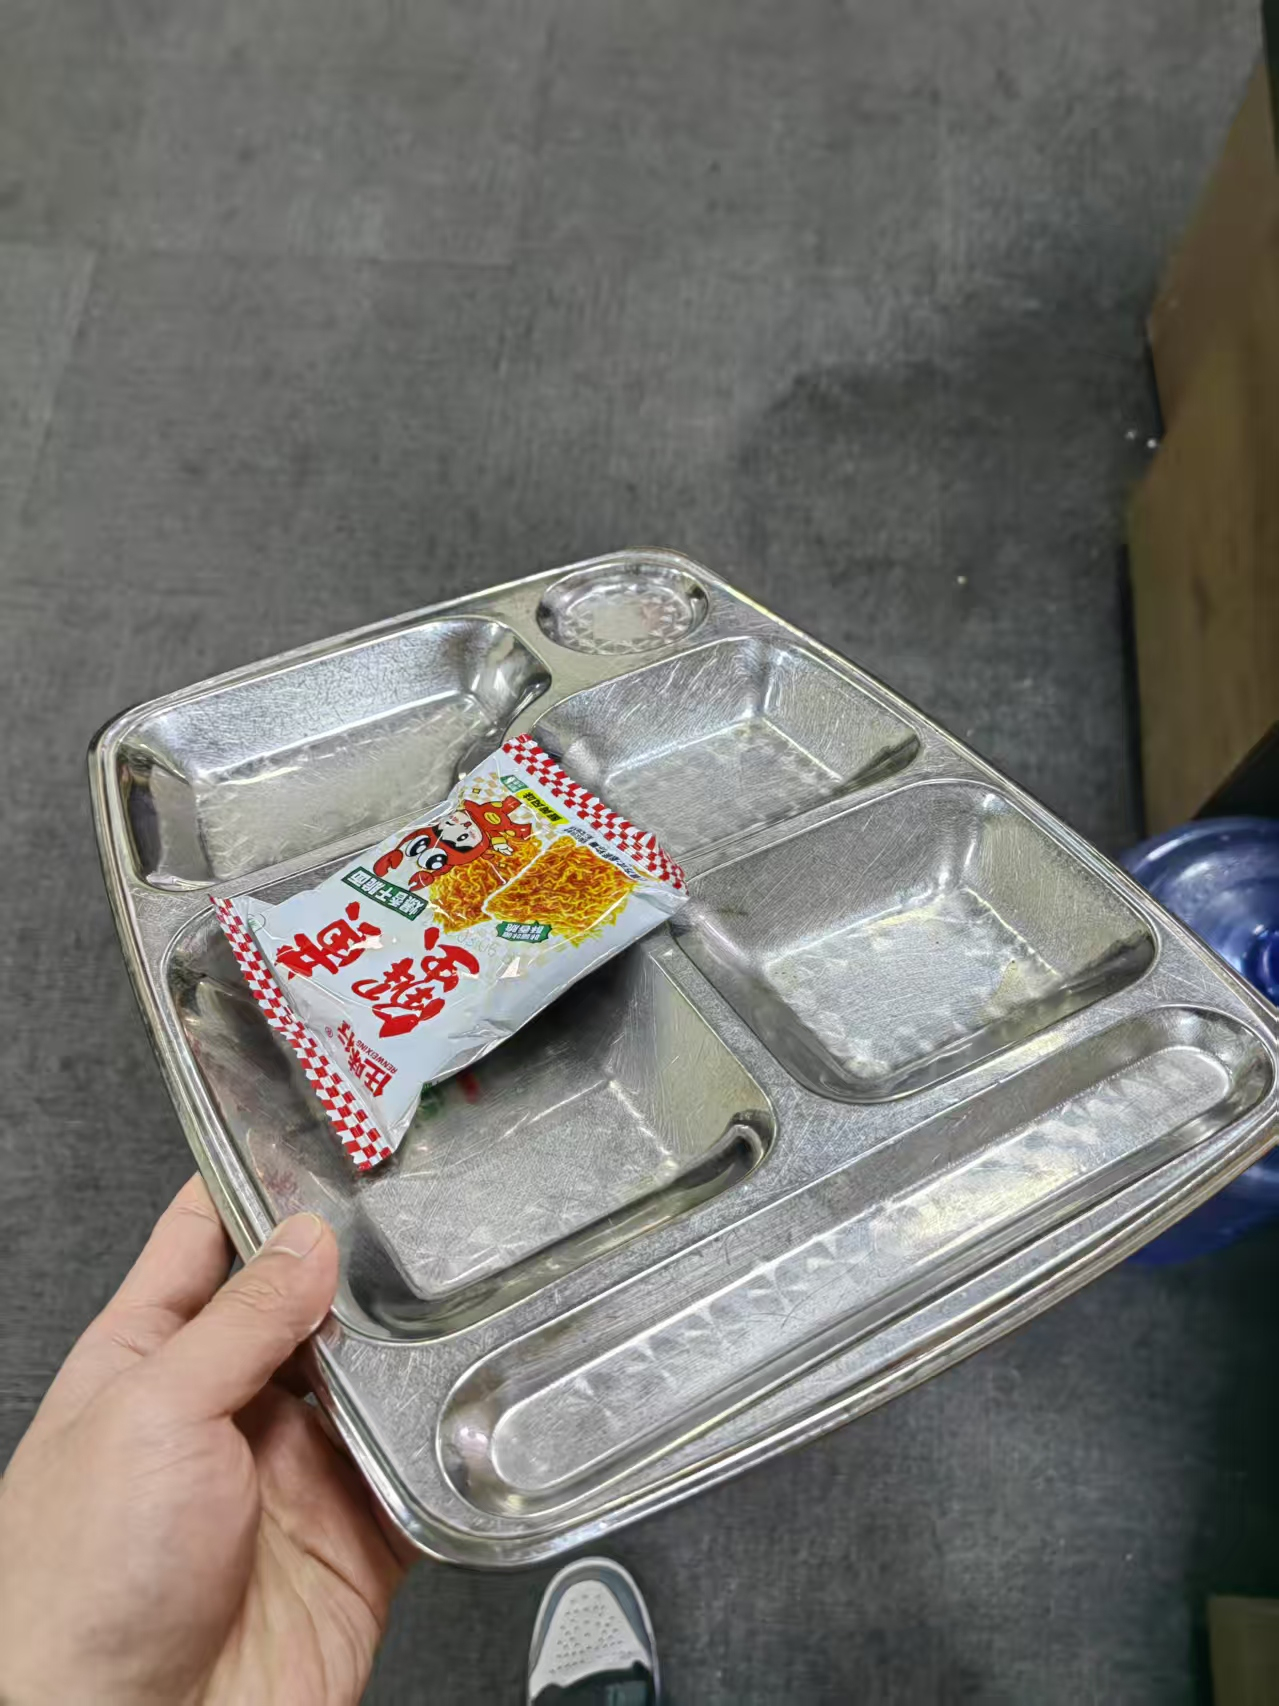mild: (208, 726, 695, 1172)
plate: (82, 544, 1279, 1572)
